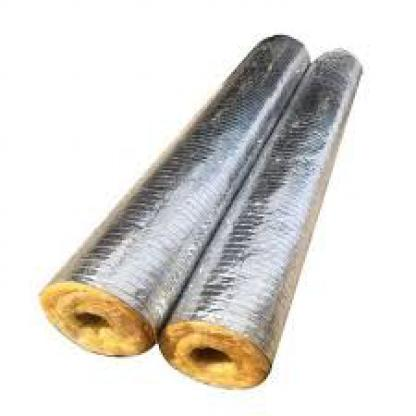METAL: (37, 32, 309, 328), (159, 46, 361, 361)
